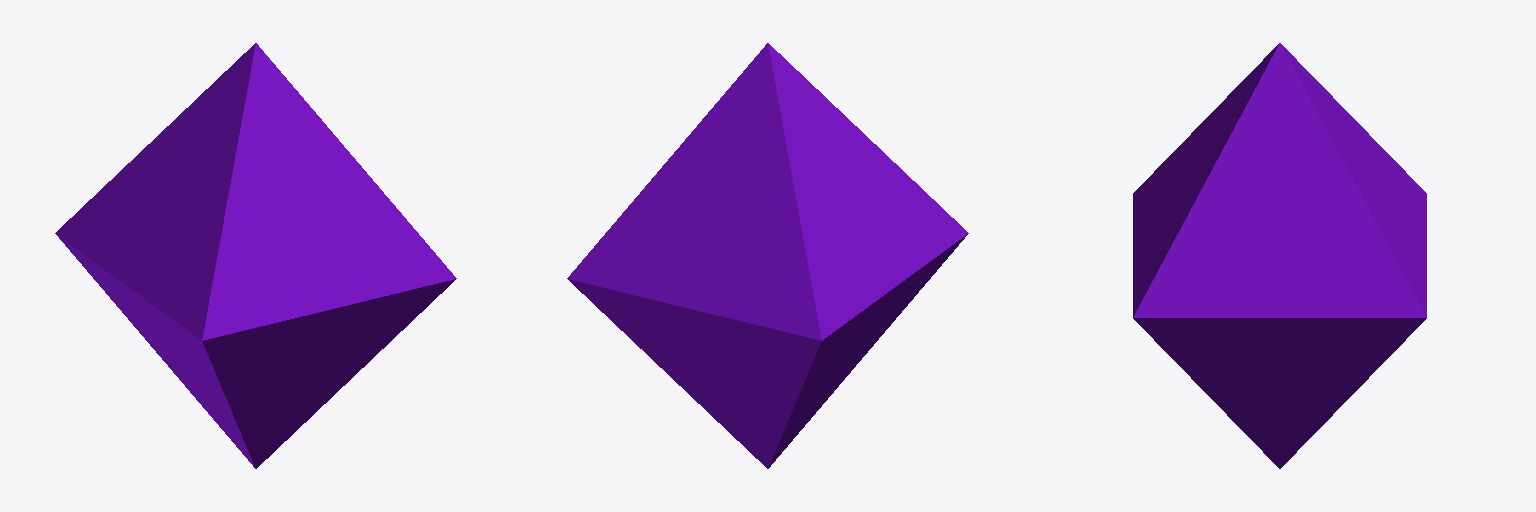
Rendered from diamond4.obj.
3 renders of one model, left to right at view 1: azimuth 30°, elevation 25°; view 2: azimuth 150°, elevation 25°; view 3: azimuth 270°, elevation 25°, orthographic.
Visible parts, largest first — view 1: Cube.004_Cube.005; view 2: Cube.004_Cube.005; view 3: Cube.004_Cube.005.
Boxes of the visible parts, x1=… form: Cube.004_Cube.005: x1=55, y1=43, x2=456, y2=468; Cube.004_Cube.005: x1=567, y1=43, x2=968, y2=468; Cube.004_Cube.005: x1=1133, y1=43, x2=1426, y2=468.
Size of the model in its own units: 2.78 by 4.44 by 2.78.